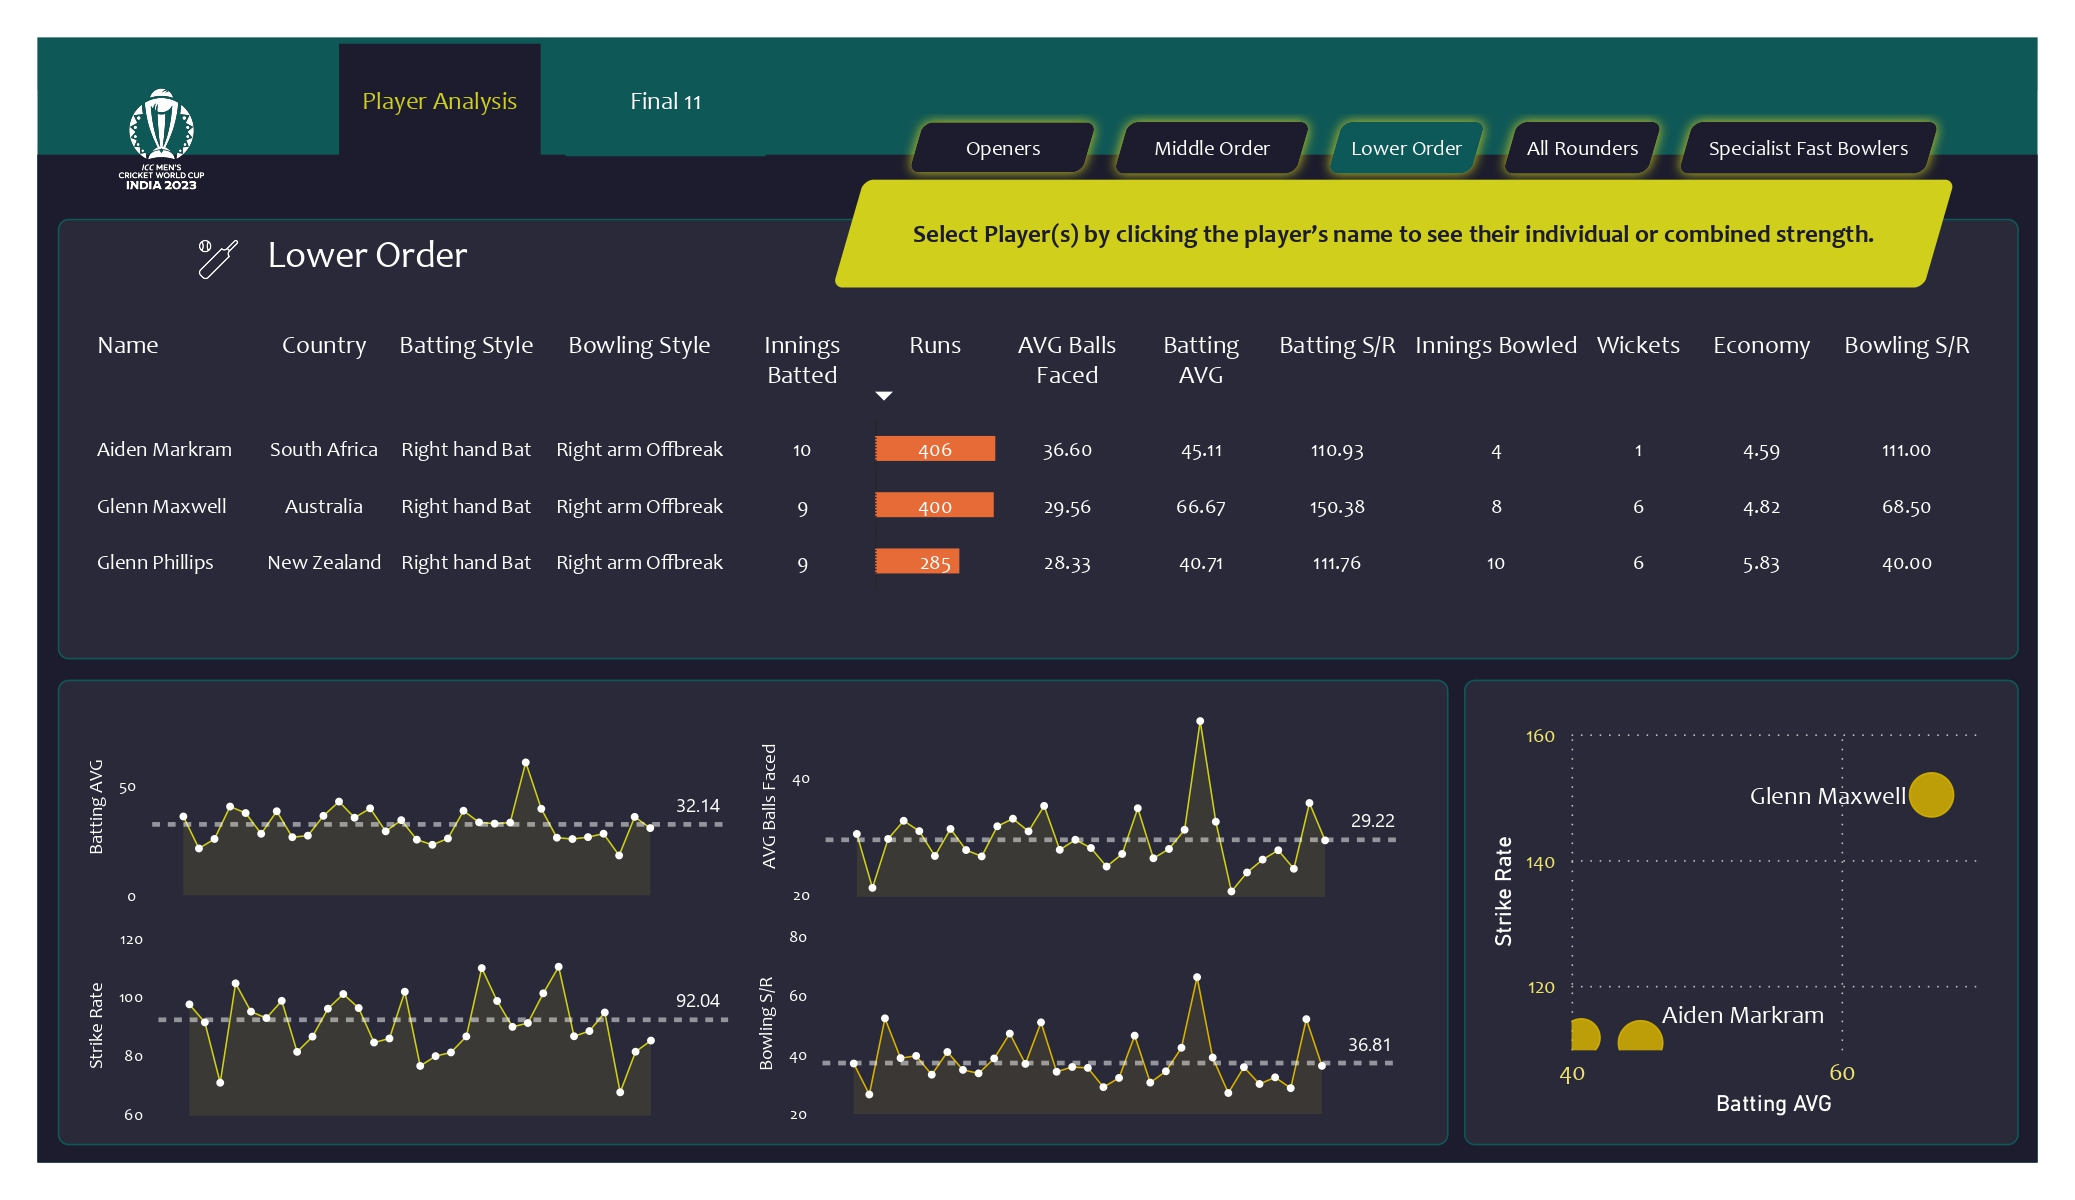

The dashboard page shown, as its layout file describes it:
{"tool":"powerbi","page":{"name":"Lower Order","canvas":[1280,720],"ordinal":2},"visuals":[{"type":"shape","box":[0,74.8,1280.8,645.2],"z":0},{"type":"shape","box":[913,411.3,354.6,297.9],"z":1000},{"type":"image","box":[94.1,124.2,43.4,36.2],"z":2000},{"type":"shape","box":[13.3,115.8,1254.3,282.2],"z":3000},{"type":"tableEx","title":"sdfsdfsdsdv","fields":{"Values":["player_details.name","player_details.country","player_details.battingStyle","player_details.bowlingStyle","key_measures.total innings batted","key_measures.total runs","key_measures.avg balls faced","key_measures.batting avg","key_measures.strike rate","key_measures.total innings bowled","key_measures.wickets","key_measures.bowling economy"]},"box":[26.8,172.4,1228,216.2],"z":4000},{"type":"scatterChart","fields":{"X":["key_measures.batting avg"],"Y":["key_measures.strike rate"],"Category":["player_details.name"],"Series":["player_details.name"],"Size":["key_measures.total runs"]},"box":[925,431.8,330.5,262.9],"z":5000},{"type":"shape","box":[115.8,121.8,190.6,32.6],"z":6000},{"type":"shape","box":[508.6,91.1,718.8,68.7],"z":7000},{"type":"card","fields":{"Values":["key_measures.batting avg"]},"box":[785.1,92.9,108.5,68.7],"z":8000},{"type":"card","fields":{"Values":["key_measures.strike rate"]},"box":[893.7,92.9,109.7,68.7],"z":9000},{"type":"card","fields":{"Values":["key_measures.bowling strike rate"]},"box":[1115.6,92.9,104.9,68.7],"z":10000},{"type":"card","fields":{"Values":["key_measures.avg balls faced"]},"box":[1003.4,92.9,112.2,68.7],"z":11000},{"type":"shape","box":[539.1,98.9,246,57.9],"z":12000},{"type":"actionButton","box":[546.3,42.5,143.5,56],"z":13000},{"type":"actionButton","box":[676.6,42.5,150.8,56.7],"z":14000},{"type":"actionButton","box":[1038.4,42.5,190.6,56.7],"z":15000},{"type":"actionButton","box":[926.2,42.5,125.4,56.7],"z":16000},{"type":"actionButton","box":[814.1,42.5,125.4,56.7],"z":17000},{"type":"shape","box":[13.3,411.3,890.1,297.9],"z":18000},{"type":"areaChart","fields":{"Y":["key_measures.batting avg"],"Category":["match_summay.Match Date.Variation.Date Hierarchy.Day"]},"box":[26.5,422.1,420,140],"z":19000},{"type":"areaChart","fields":{"Y":["key_measures.avg balls faced"],"Category":["match_summay.Match Date.Variation.Date Hierarchy.Day"]},"box":[458.3,420.9,420.9,140],"z":20000},{"type":"areaChart","fields":{"Y":["key_measures.strike rate"],"Category":["match_summay.Match Date.Variation.Date Hierarchy.Day"]},"box":[26.5,562,420.9,140],"z":21000},{"type":"areaChart","fields":{"Y":["key_measures.bowling strike rate"],"Category":["match_summay.Match Date.Variation.Date Hierarchy.Day"]},"box":[455.9,560.8,420.9,140],"z":22000},{"type":"image","box":[13.3,13.3,132.7,102.5],"z":23000},{"type":"actionButton","box":[189.3,0,136.3,79.6],"z":24000},{"type":"actionButton","box":[334.1,0,136.3,79.6],"z":25000},{"type":"shape","box":[558.7,99.5,618.7,51.9],"z":26000}]}

Visuals, with their boxes on the page's 1280x720 design canvas (x1, y1, x2, y2). These are canvas units, not pixel positions in the 2075x1200 screenshot, which may show the page scaled, cropped or inside an application window:
shape: 0 75 1281 720
shape: 913 411 1268 709
image: 94 124 138 160
shape: 13 116 1268 398
"sdfsdfsdsdv" tableEx: 27 172 1255 389
scatterChart - key_measures.batting avg x key_measures.strike rate: 925 432 1256 695
shape: 116 122 306 154
shape: 509 91 1227 160
card - key_measures.batting avg: 785 93 894 162
card - key_measures.strike rate: 894 93 1003 162
card - key_measures.bowling strike rate: 1116 93 1220 162
card - key_measures.avg balls faced: 1003 93 1116 162
shape: 539 99 785 157
actionButton: 546 42 690 98
actionButton: 677 42 827 99
actionButton: 1038 42 1229 99
actionButton: 926 42 1052 99
actionButton: 814 42 940 99
shape: 13 411 903 709
areaChart - key_measures.batting avg x match_summay.Match Date.Variation.Date Hierarchy.Day: 26 422 446 562
areaChart - key_measures.avg balls faced x match_summay.Match Date.Variation.Date Hierarchy.Day: 458 421 879 561
areaChart - key_measures.strike rate x match_summay.Match Date.Variation.Date Hierarchy.Day: 26 562 447 702
areaChart - key_measures.bowling strike rate x match_summay.Match Date.Variation.Date Hierarchy.Day: 456 561 877 701
image: 13 13 146 116
actionButton: 189 0 326 80
actionButton: 334 0 470 80
shape: 559 100 1177 151
